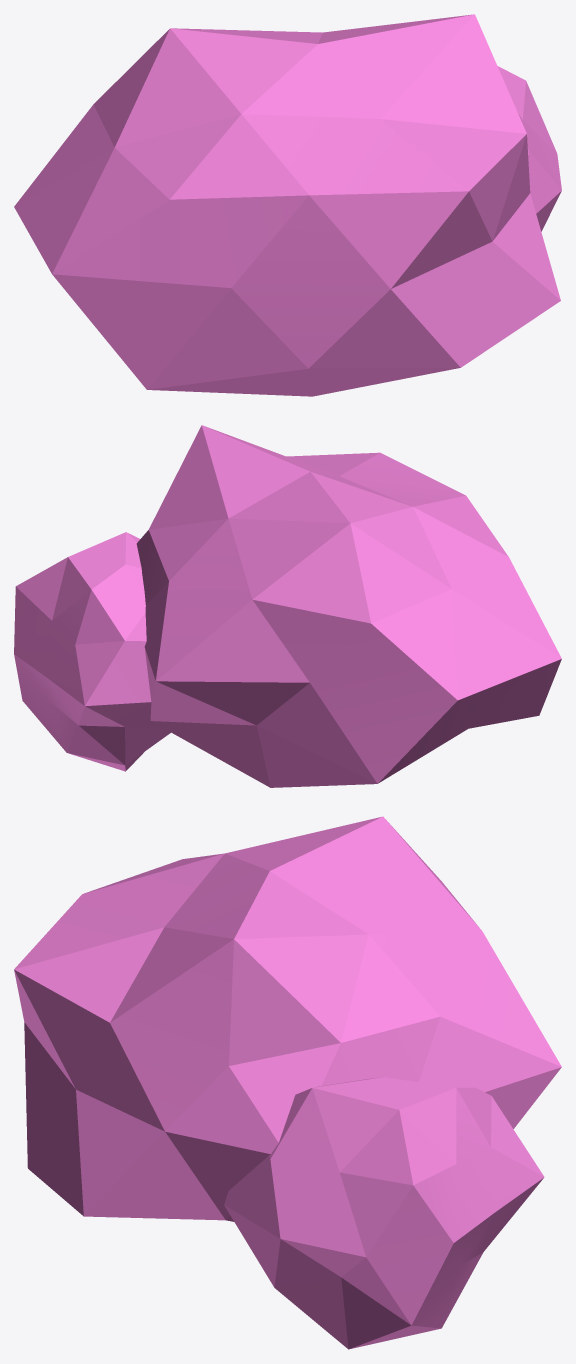
The model's file is Mountain_RockSmall.fbx.
3 renders of one model, top to bottom at view 1: azimuth 30°, elevation 25°; view 2: azimuth 150°, elevation 25°; view 3: azimuth 270°, elevation 25°, orthographic. The views are drawn at different scales.
Parts seen in each view (by area): view 1: Rock; view 2: Rock; view 3: Rock.
Boxes of the visible parts, bbox=[...] form: Rock: bbox=[14, 14, 561, 396]; Rock: bbox=[14, 425, 561, 787]; Rock: bbox=[14, 816, 561, 1349].
Size of the model in its own units: 6.29 by 3.78 by 4.81.
Materials: 1 (1 with a texture image).
